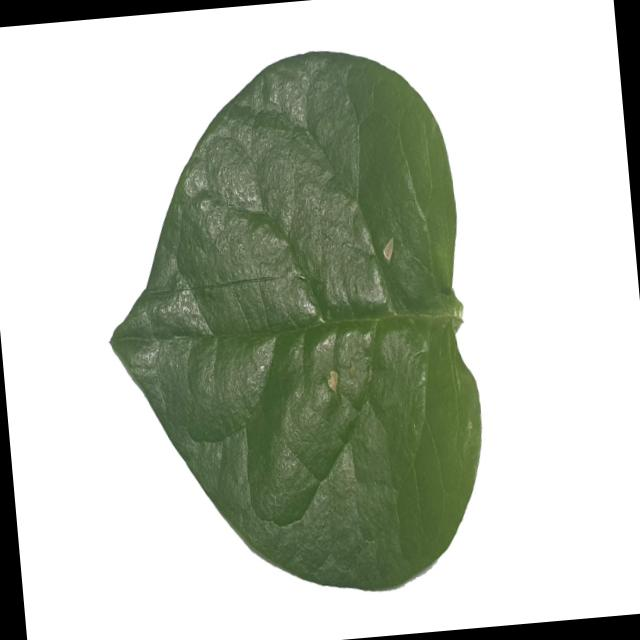Medicinal-Basale: (84, 38, 496, 610)
